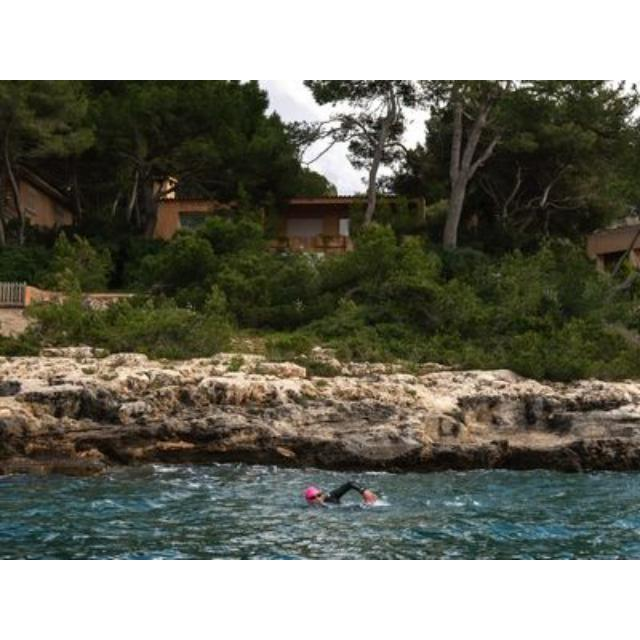human: (300, 479, 378, 511)
